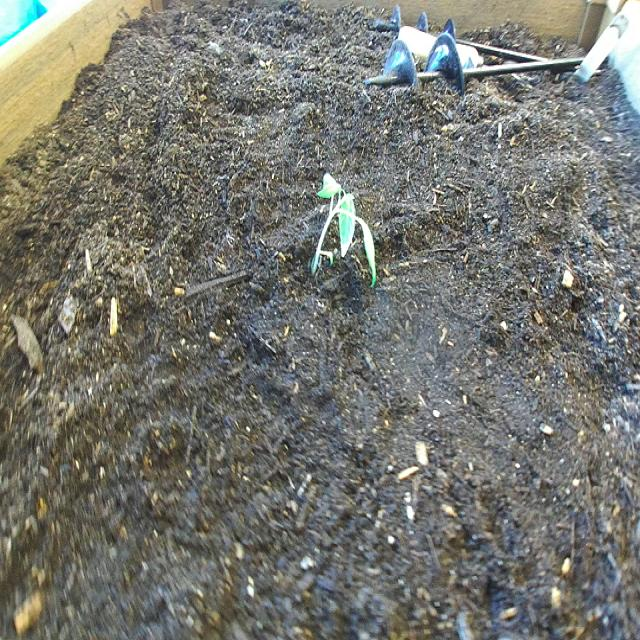Healthy: (304, 164, 381, 292)
